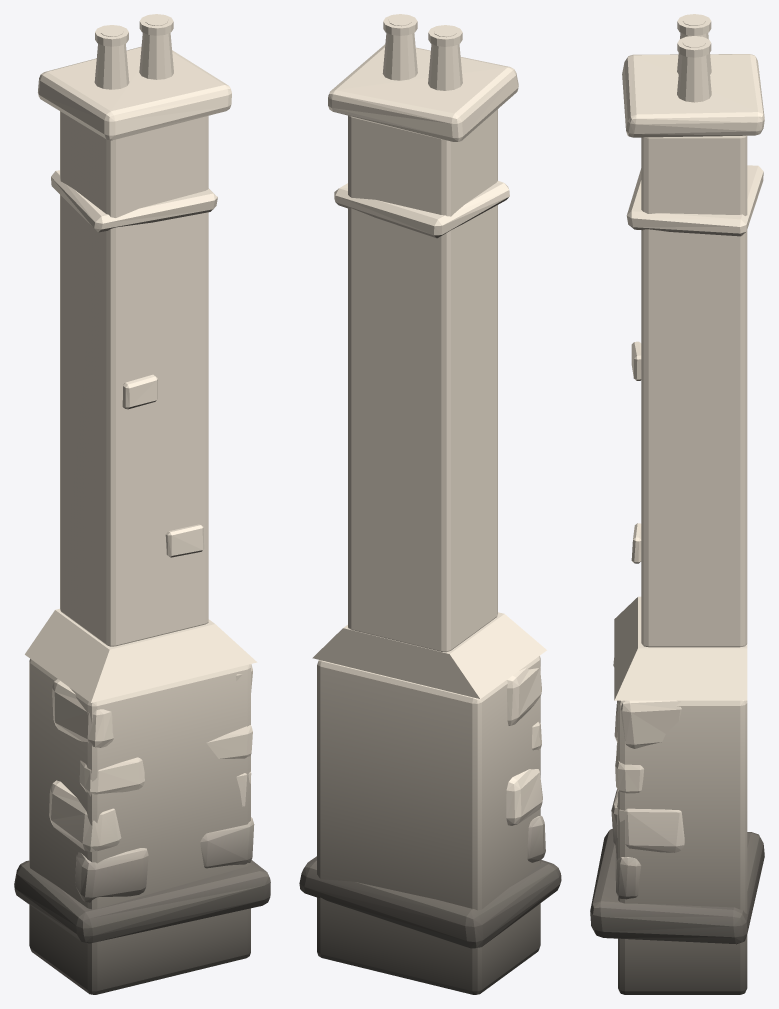
File: SM_VK_Chimney_Gable_H24.fbx
3 views of the same model, side by side, from view 1: azimuth 30°, elevation 25°; view 2: azimuth 150°, elevation 25°; view 3: azimuth 270°, elevation 25° (orthographic).
Visible parts, largest first — view 1: SM_VK_Chimney_Gable_H24.001; view 2: SM_VK_Chimney_Gable_H24.001; view 3: SM_VK_Chimney_Gable_H24.001.
Boxes of the visible parts, left/top/right/bottom form: SM_VK_Chimney_Gable_H24.001: left=14, top=14, right=270, bottom=994; SM_VK_Chimney_Gable_H24.001: left=299, top=14, right=561, bottom=994; SM_VK_Chimney_Gable_H24.001: left=590, top=14, right=764, bottom=994.
Size of the model in its own units: 1.94 by 8.7 by 1.49.
